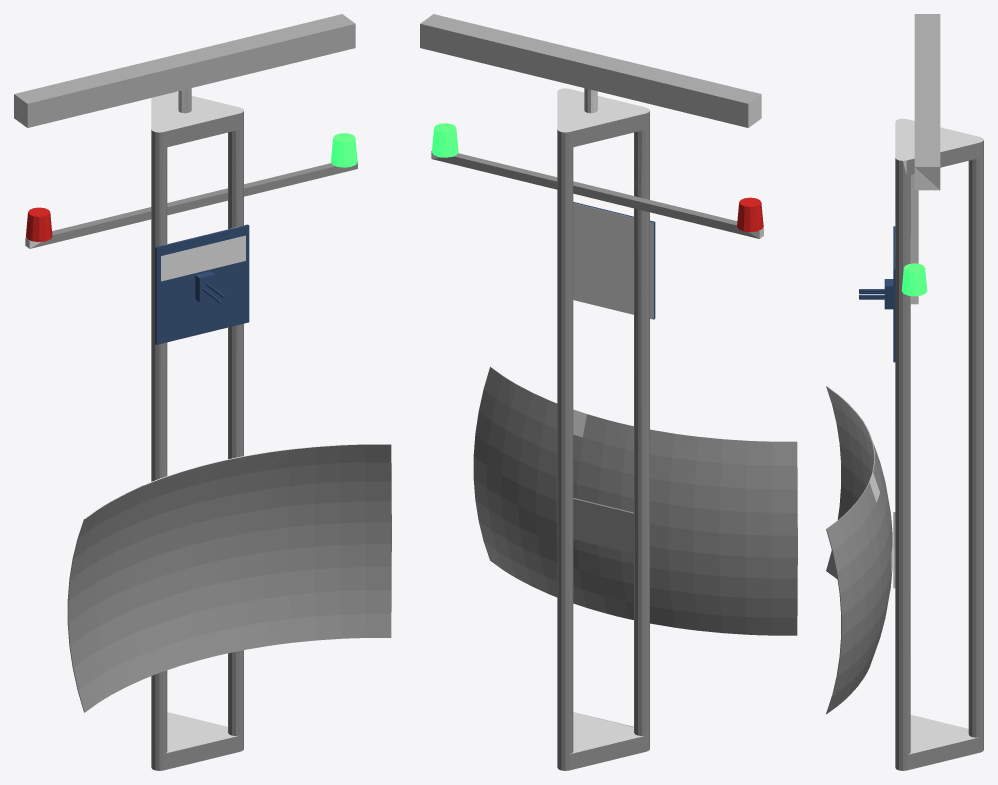
File: mast_colored2.dae
3 views of the same model, side by side, from view 1: azimuth 30°, elevation 25°; view 2: azimuth 150°, elevation 25°; view 3: azimuth 270°, elevation 25° (orthographic). The views are drawn at different scales.
Parts seen in each view (by area): view 1: node0, Plane; view 2: node0; view 3: node0.
Boxes of the visible parts, x1,y1,x2,y2 form: node0: (14,14,391,770); Plane: (161,235,245,281); node0: (420,14,797,770); node0: (826,14,983,770).
Bounding box in the file's own units: 1.08 × 0.471 × 2.17.
